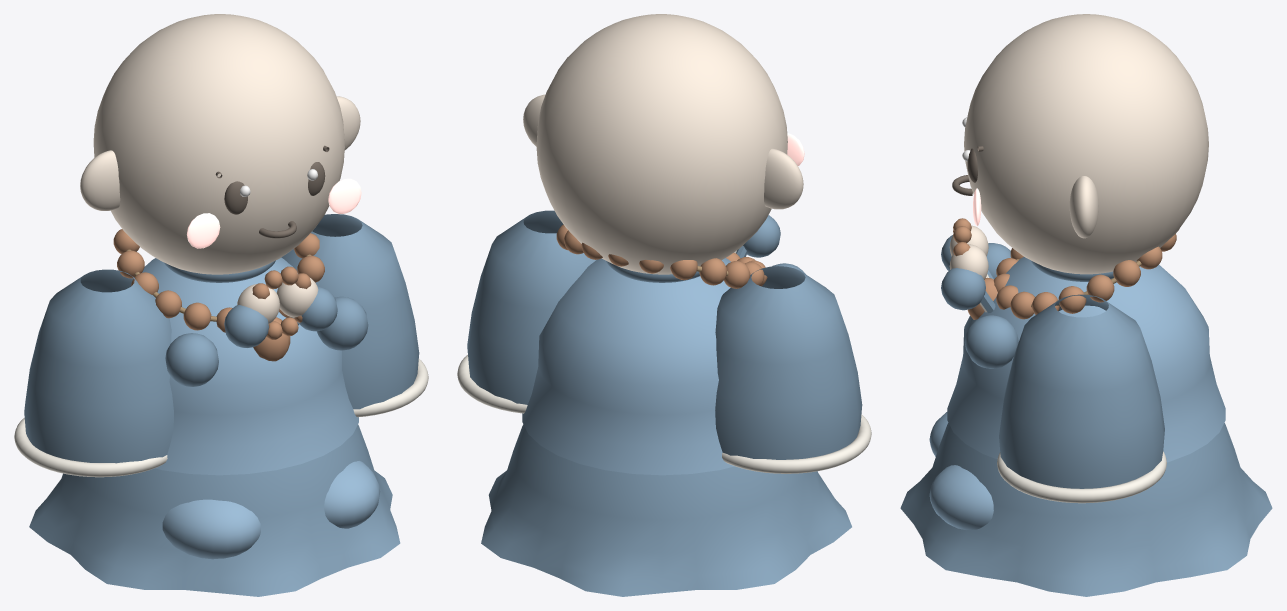
The model's file is monk.glb.
The picture shows the model from 3 angles, left to right: view 1: azimuth 30°, elevation 25°; view 2: azimuth 150°, elevation 25°; view 3: azimuth 270°, elevation 25°; orthographic projection.
Visible parts, largest first — view 1: head, hem, sleeveL, robe, sleeveR, kneeL, kneeR, cuffL, arm0101, earL, arm0301, arm0102 (+13 smaller); view 2: head, hem, robe, sleeveL, sleeveR, cuffL, earL, cuffR, arm0102, earR, collar, bead12 (+1 smaller); view 3: head, hem, sleeveR, robe, kneeR, cuffR, arm0301, arm0302, earR, handR, bead05, bead04 (+4 smaller).
Part boxes in pixels (x1,y1,x2,y2): head: [93, 14, 344, 274]; hem: [29, 424, 400, 596]; sleeveL: [24, 269, 173, 463]; robe: [142, 257, 358, 475]; sleeveR: [281, 214, 419, 409]; kneeL: [162, 499, 260, 559]; kneeR: [324, 461, 380, 528]; cuffL: [14, 418, 167, 477]; arm0101: [165, 333, 218, 386]; earL: [80, 150, 120, 210]; arm0301: [317, 296, 368, 350]; arm0102: [224, 305, 268, 347]; head: [536, 14, 787, 274]; hem: [481, 424, 851, 596]; robe: [522, 258, 734, 475]; sleeveL: [715, 266, 862, 459]; sleeveR: [467, 210, 595, 404]; cuffL: [722, 414, 871, 473]; earL: [764, 148, 803, 209]; cuffR: [457, 355, 527, 413]; arm0102: [743, 215, 780, 257]; earR: [523, 94, 545, 146]; collar: [606, 261, 699, 282]; bead12: [699, 258, 726, 285]; head: [964, 14, 1208, 274]; hem: [900, 423, 1272, 596]; sleeveR: [999, 294, 1164, 488]; robe: [947, 257, 1225, 462]; kneeR: [929, 465, 993, 529]; cuffR: [997, 451, 1166, 503]; arm0301: [964, 315, 1018, 368]; arm0302: [941, 268, 985, 310]; earR: [1069, 176, 1098, 238]; handR: [949, 244, 988, 279]; bead05: [1086, 274, 1114, 302]; bead04: [1058, 286, 1086, 313].
Size of the model in its own units: 1.99 by 2.41 by 1.65.
